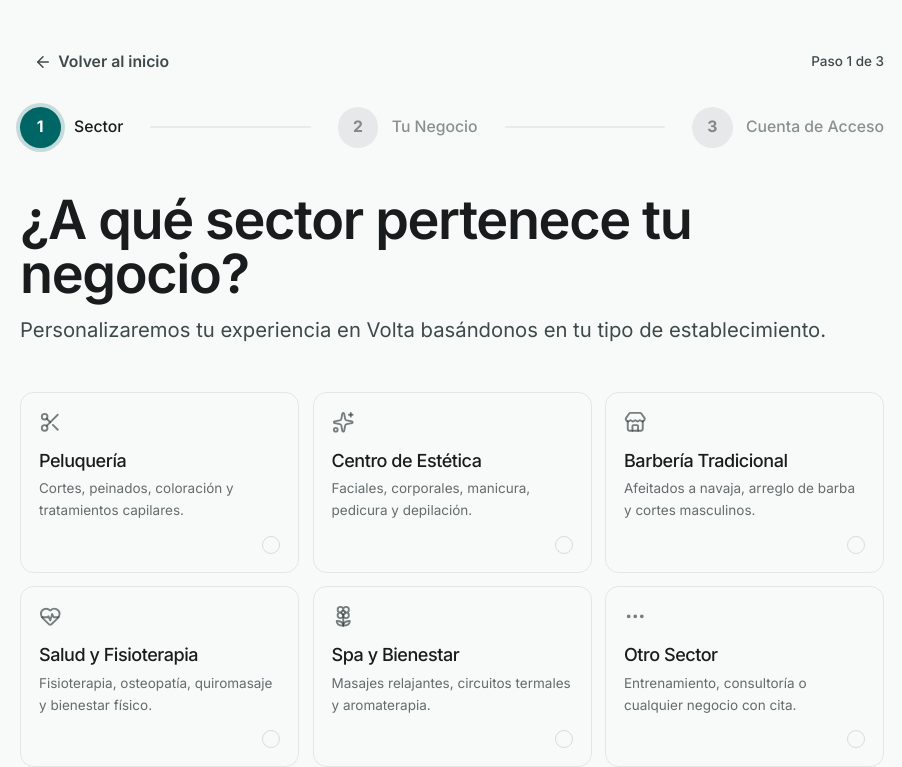
Test: RegisterPage Component Flow › advances to Step 2 when sector is selected
This screenshot has width=902, height=767.
Click the heading "Peluquería" at (83, 460), box x1=39 y1=450 x2=126 y2=471
(page scrolled)
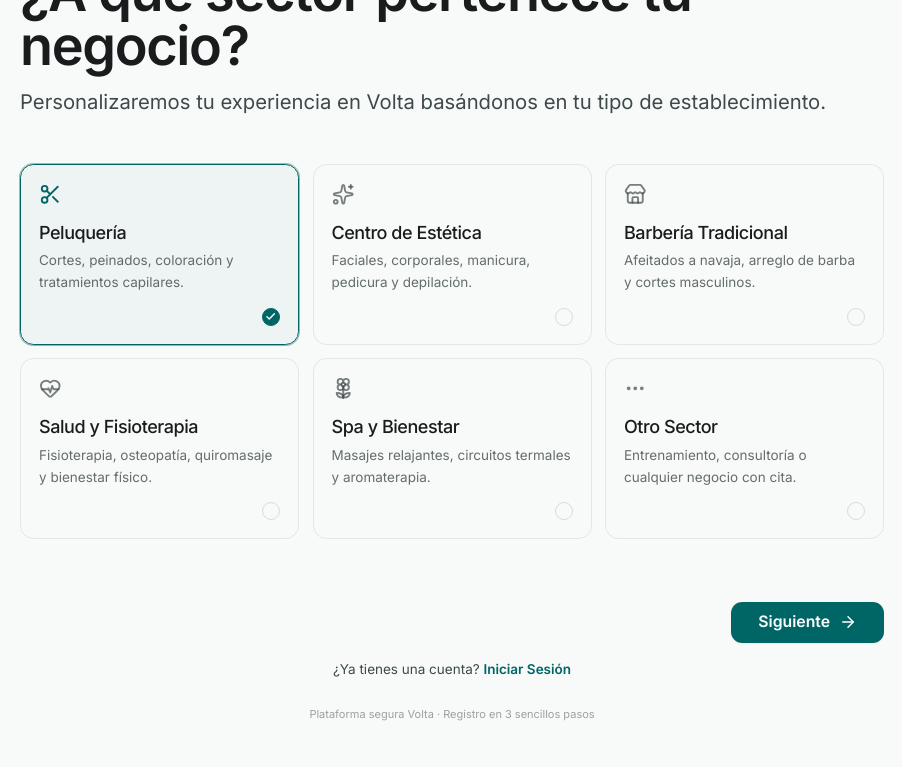
Click the button "Siguiente" at (808, 622), box x1=731 y1=602 x2=884 y2=643
(page scrolled)
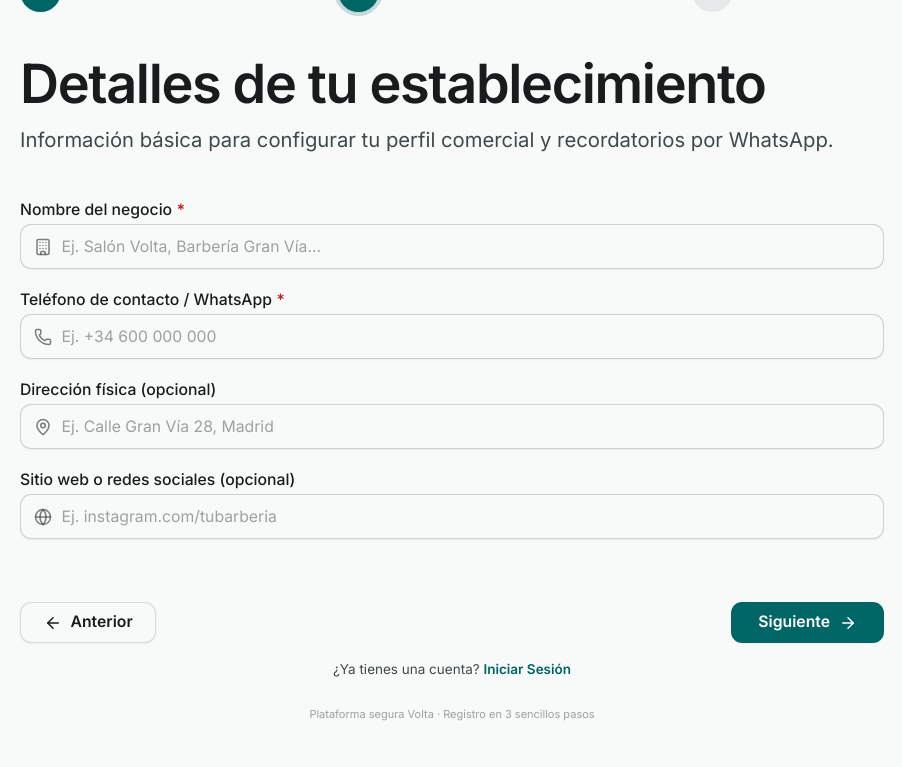
Expected: the heading "Detalles de tu establecimiento" is shown, x1=20 y1=56 x2=884 y2=110
